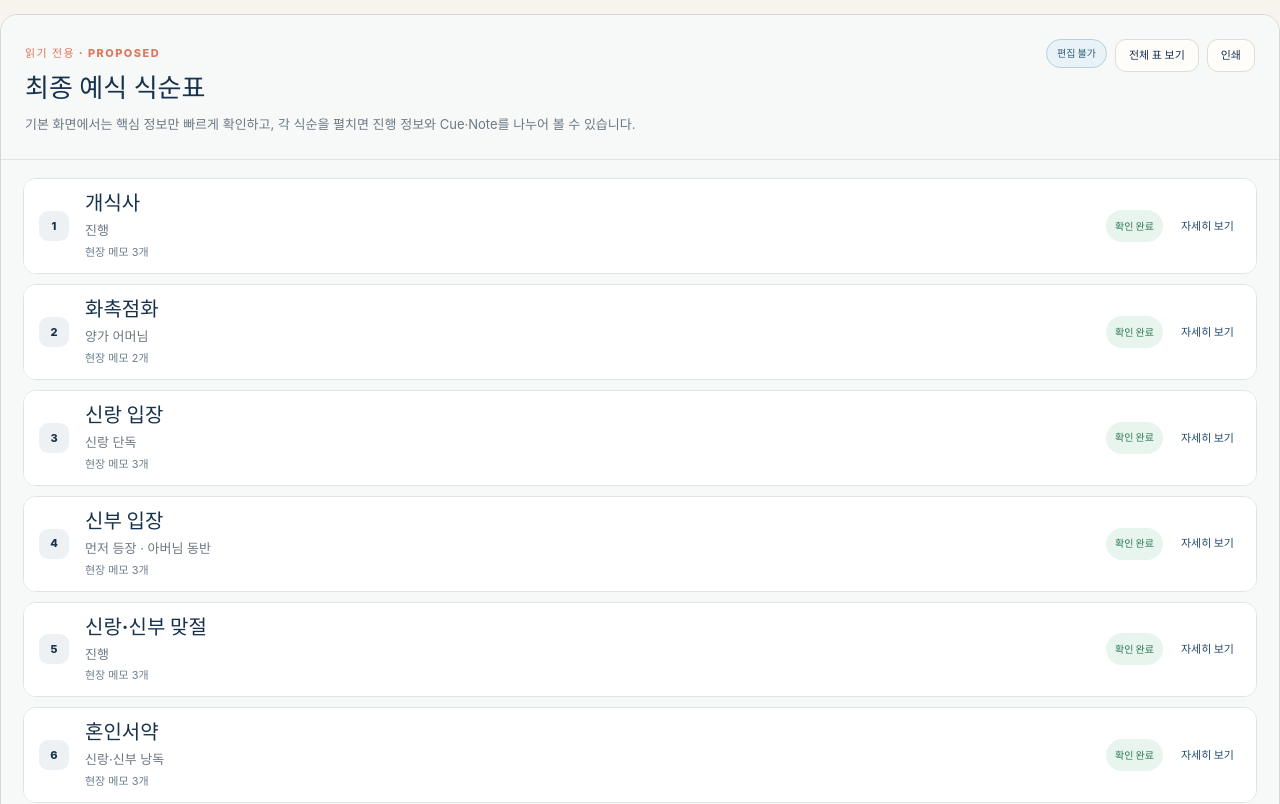
Scenario: FinalCeremonySheet › 예물교환 미진행을 전체 표에 한 줄로 표시하고 Cue·Note는 숨긴다
Click the button "전체 표 보기" at (1157, 55), box x1=1115 y1=39 x2=1199 y2=72
(page scrolled)
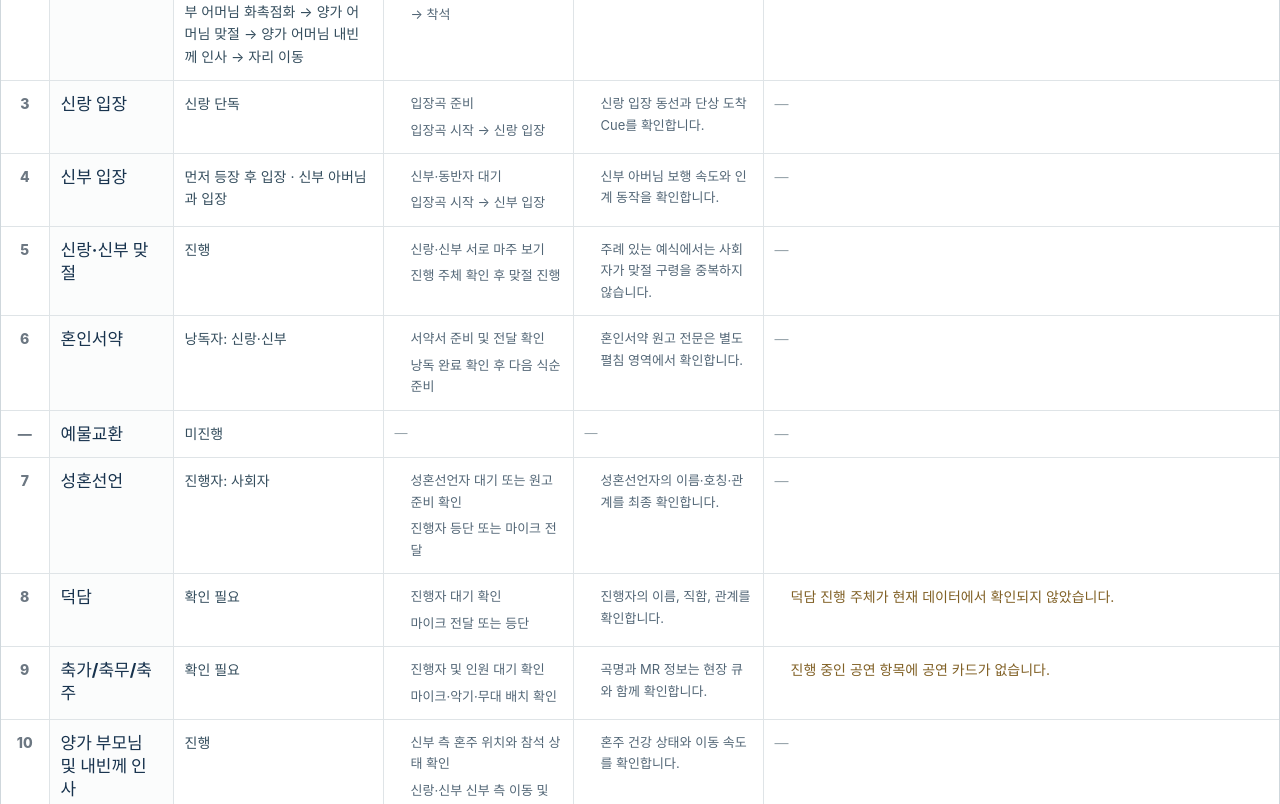
Expected: the text "미진행" is shown, x1=173 y1=410 x2=383 y2=458
